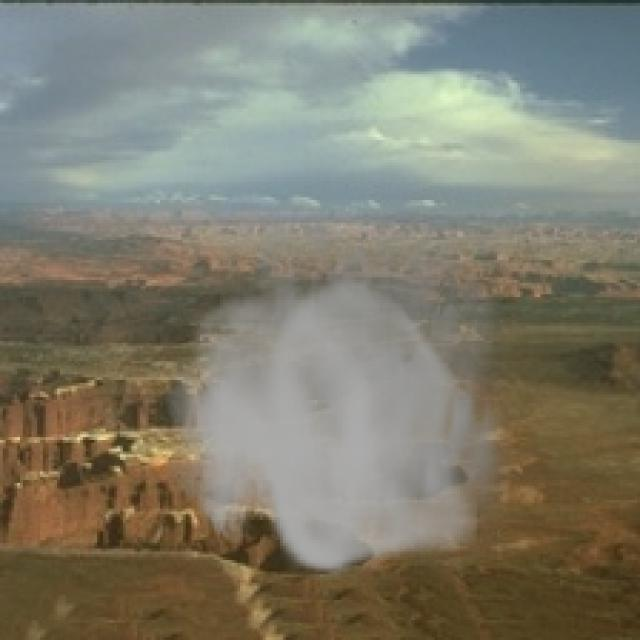smoke: (165, 174, 526, 580)
